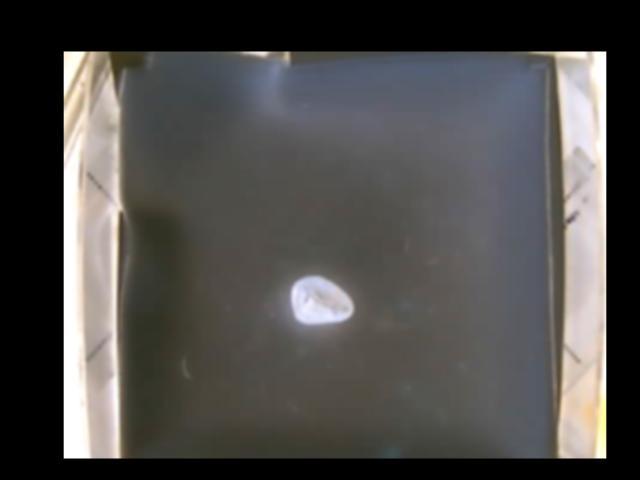Pebble: (293, 275, 353, 322)
